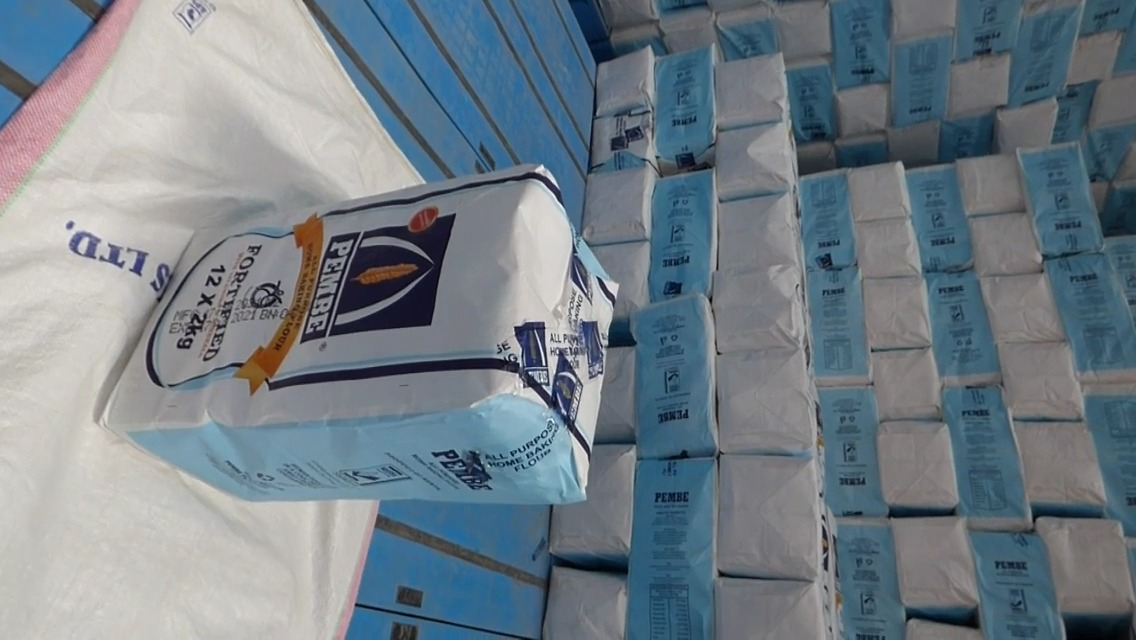wheat_flour_blue_label: (108, 164, 614, 508)
